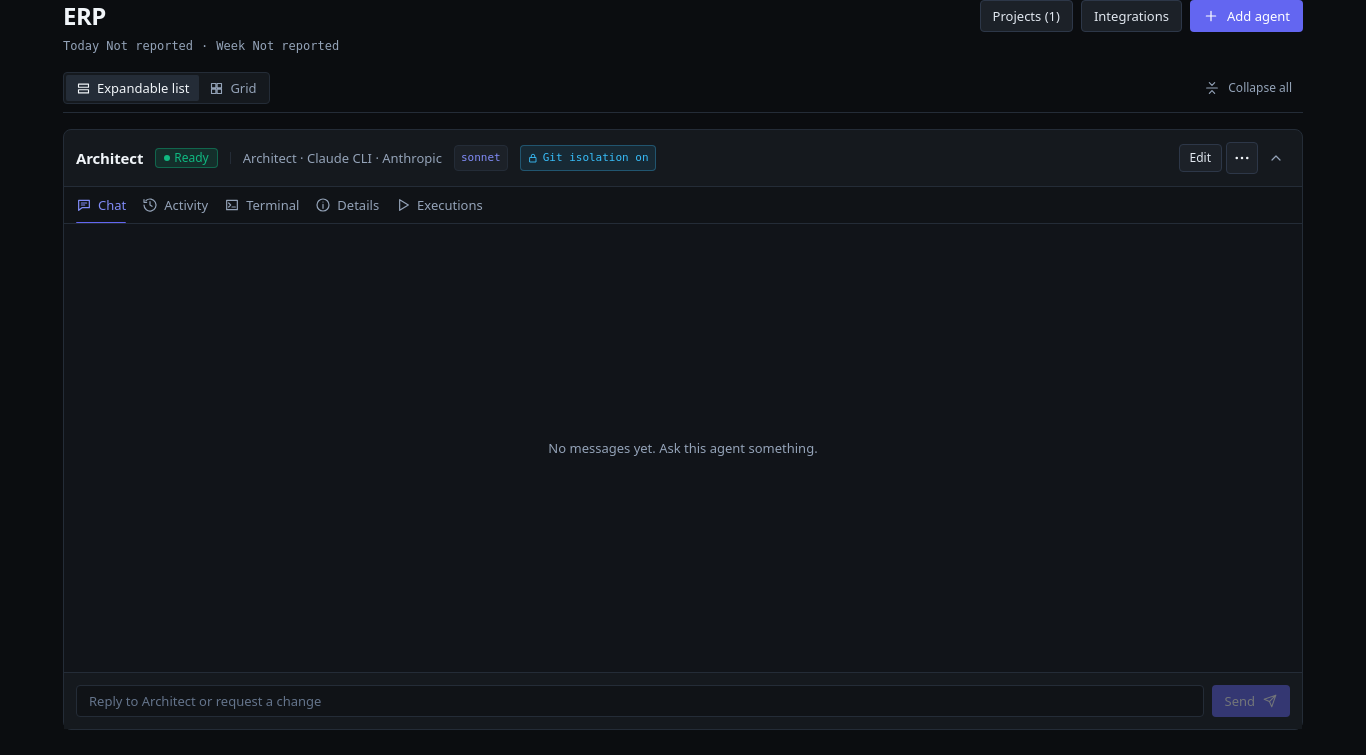
Test: Task context preview › says why each item was chosen and shows the exact text the agent receives
This screenshot has width=1366, height=755.
Type "Add password recovery endpoint" into the text box named "Message Architect". click: (640, 701)
box: [76,685,1204,717]
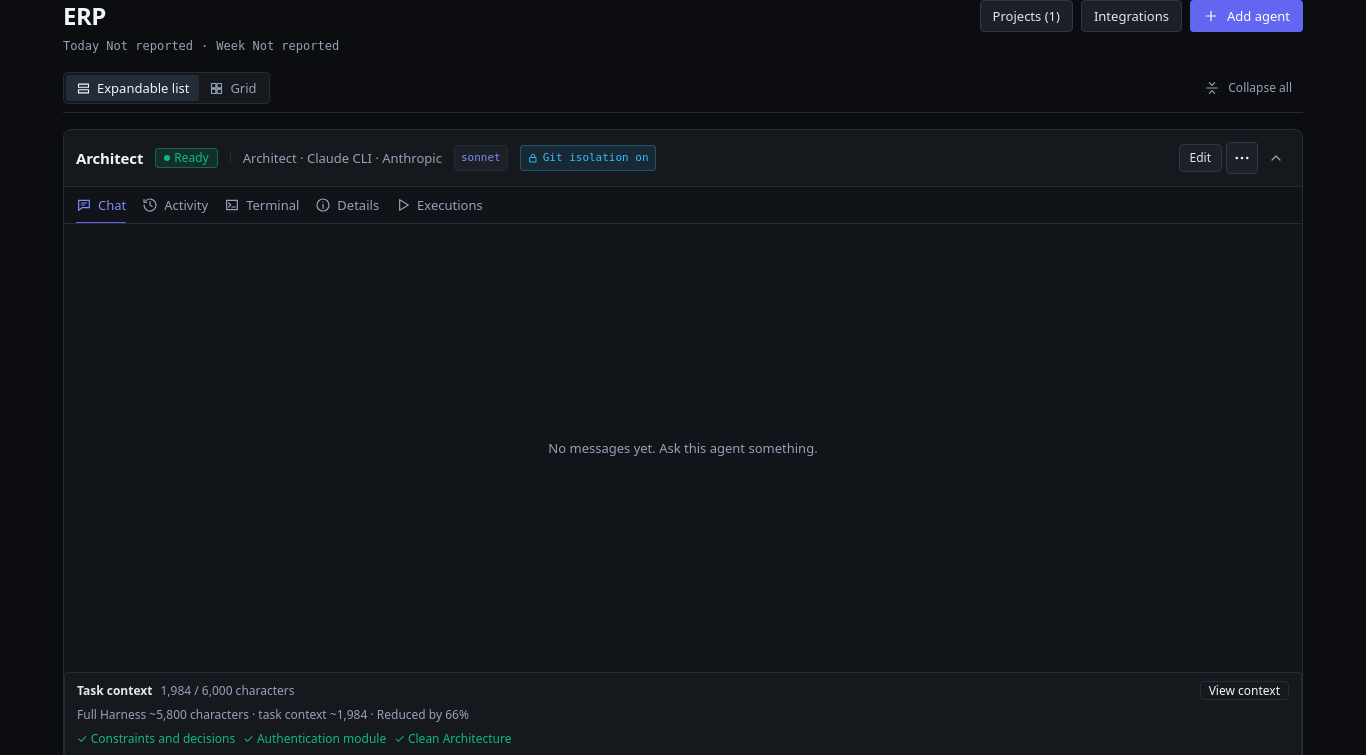
Click the button "View context". click: (1244, 690)
box: [1200,681,1289,700]
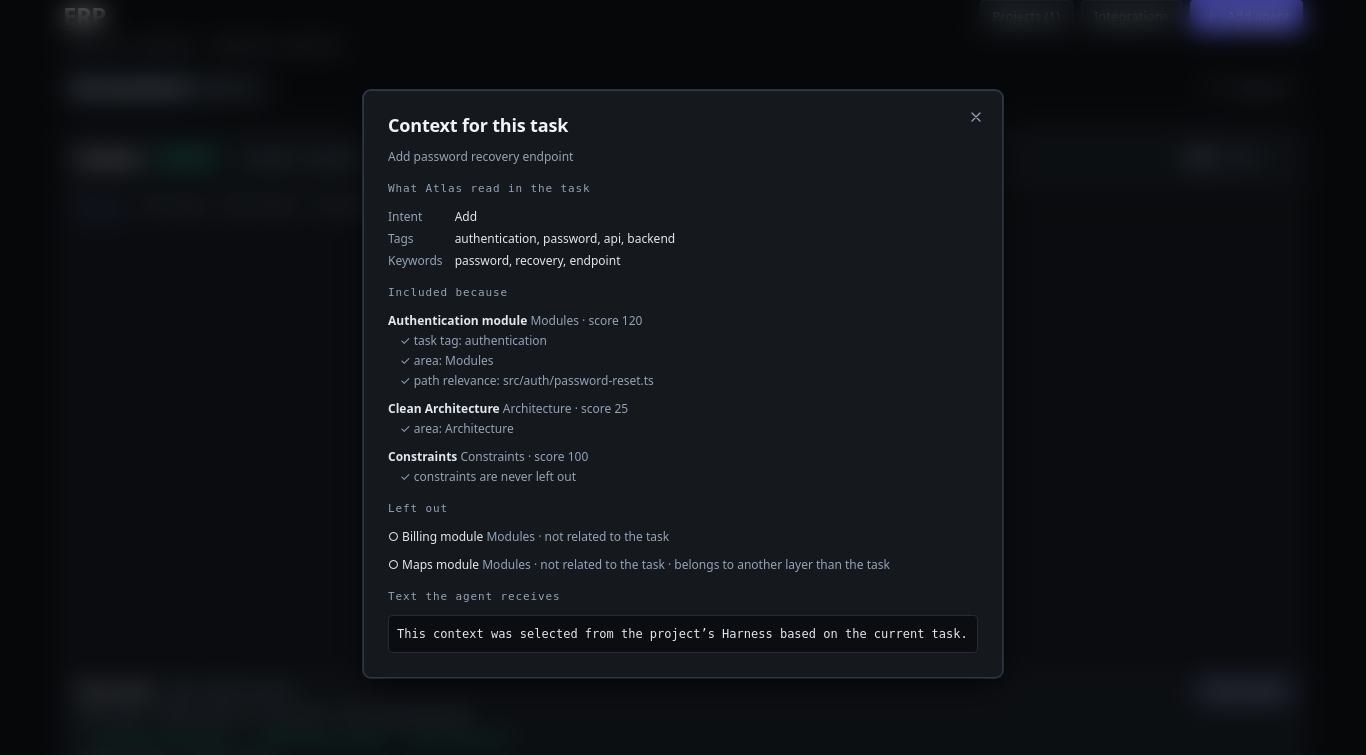
Expected: the text "Add" is shown, [455,208,477,225]
Expected: the text "authentication, password, api, backend" is shown, [455,230,675,247]
Expected: the list item "✓ task tag: authentication" is shown, [400,332,547,349]
